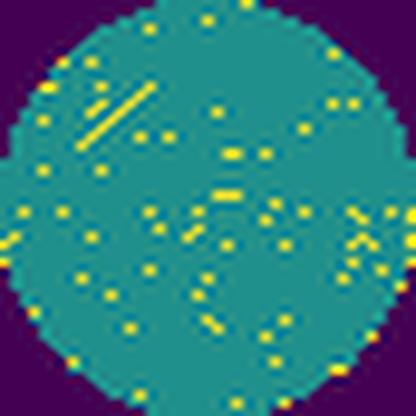Scratch: (69, 76, 162, 156)
